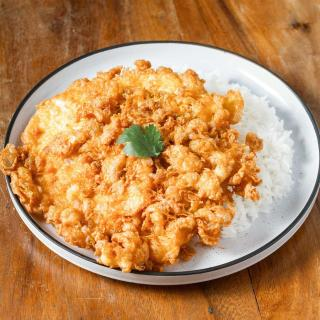carbs: (229, 90, 295, 220)
omelet_rice: (16, 68, 294, 268)
veg: (125, 125, 164, 158)
